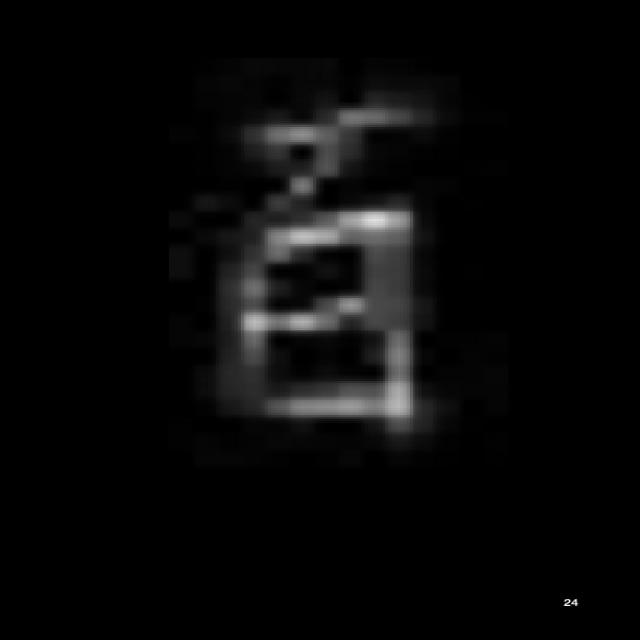100 -a hundred-: (191, 88, 440, 444)
